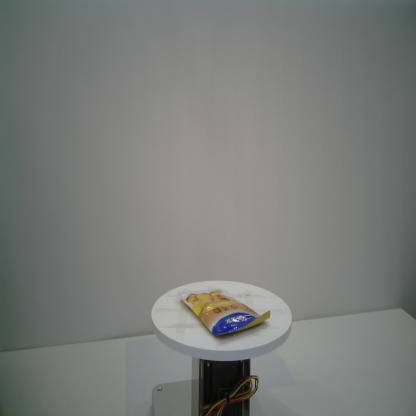Seasoner: (177, 287, 271, 338)
